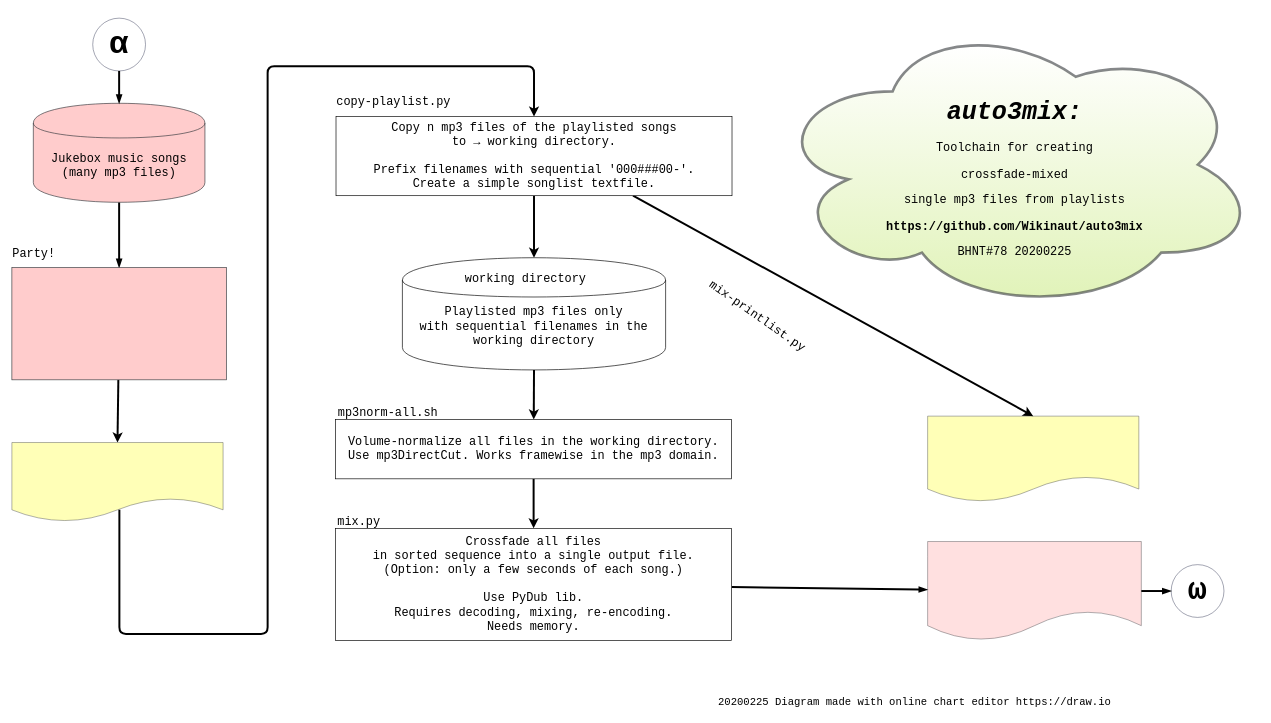
Some shapes in this 1271 by 723 pixel diagram are drawn without their labels. The shapes that lost their labels are listed below. From the top down, each one's centre as x and y in pixels, then its label:
At [118,323]: "Party! with WinAmp, Clementine or similar players".
At [1033,458]: "songlist.txt : simple songlist textfile".
At [117,482]: "Playlist.m3u : pointer to n songs".
At [1034,591]: "mix.mp3 : the single output file crossfaded normalized songs".
